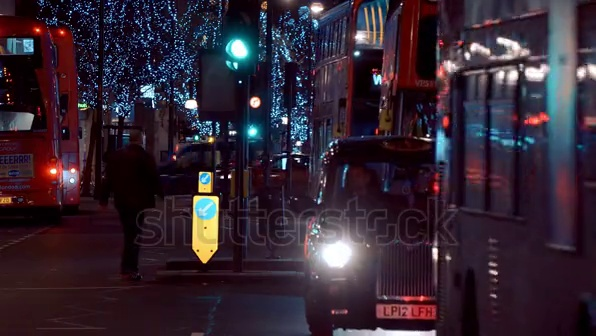licenseplate: (379, 301, 445, 326)
